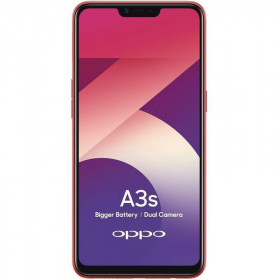Handphone: (69, 1, 212, 280)
